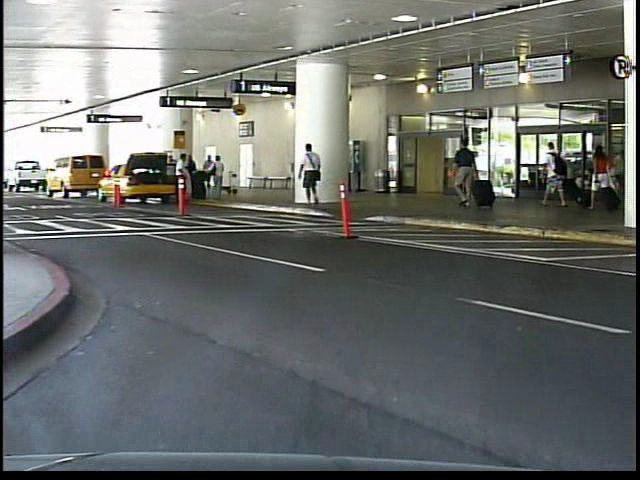person: (538, 138, 575, 218), (589, 133, 620, 220), (450, 134, 480, 210), (299, 141, 331, 211)
